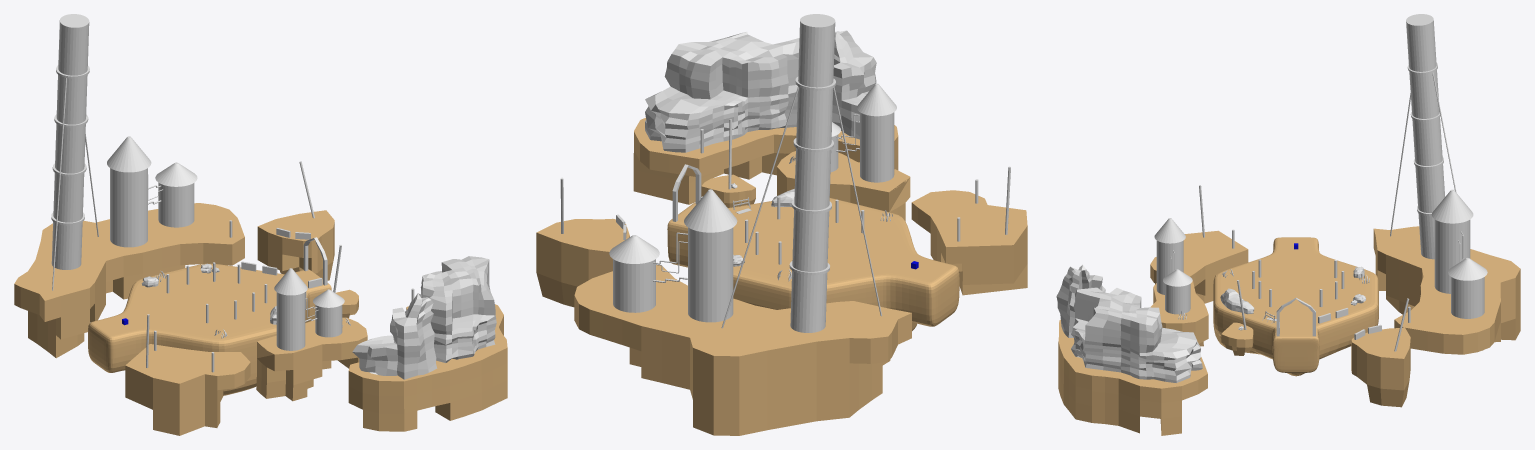
Rendered from Sala4.fbx.
3 views of the same model, side by side, from view 1: azimuth 30°, elevation 25°; view 2: azimuth 150°, elevation 25°; view 3: azimuth 270°, elevation 25° (orthographic). The views are drawn at different scales.
Parts seen in each view (by area): view 1: Cube.033, Base 1-4, Cube.034, Cube.037, Tuberia.001, Roca.022, Cube.036, Roca.027, Tubo almacen, Cube.035, Tubo almacen.002, Tubo almacen.001 (+1 smaller); view 2: Cube.033, Base 1-4, Roca.022, Tuberia.001, Cube.037, Cube.034, Tubo almacen, Cube.035, Cube.036, Roca.027, Tubo almacen.002, Tubo almacen.001 (+4 smaller); view 3: Base 1-4, Cube.033, Roca.022, Cube.034, Tuberia.001, Cube.035, Cube.037, Tubo almacen, Tubo almacen.001, Cube.036, Tubo almacen.002, Roca.027 (+3 smaller).
Part boxes in pixels (x1,y1,x2,y2): Cube.033: (14,203,244,358); Base 1-4: (88,263,331,395); Cube.034: (348,304,507,431); Cube.037: (125,344,250,435); Tuberia.001: (51,14,89,269); Roca.022: (420,256,496,362); Cube.036: (256,317,367,401); Roca.027: (352,293,437,379); Tubo almacen: (107,136,151,247); Cube.035: (257,210,334,280); Tubo almacen.002: (274,268,307,350); Tubo almacen.001: (155,162,197,227); Cube.033: (574,265,911,435); Base 1-4: (667,198,959,330); Roca.022: (645,31,799,152); Tuberia.001: (789,14,835,332); Cube.037: (911,190,1027,295); Cube.034: (633,117,898,204); Tubo almacen: (684,189,737,322); Cube.035: (536,218,629,307); Cube.036: (777,151,910,221); Roca.027: (832,30,876,139); Tubo almacen.002: (857,83,896,182); Tubo almacen.001: (609,235,659,312); Base 1-4: (1213,237,1378,376); Cube.033: (1373,226,1520,354); Roca.022: (1071,287,1202,382); Cube.034: (1058,319,1207,435); Tuberia.001: (1406,14,1445,259); Cube.035: (1351,327,1410,407); Cube.037: (1150,230,1248,303); Tubo almacen: (1431,189,1473,293); Tubo almacen.001: (1448,258,1487,318); Cube.036: (1150,280,1208,346); Tubo almacen.002: (1154,218,1185,294); Roca.027: (1056,265,1105,337).
Size of the model in its own units: 20759 by 16756 by 14647.
